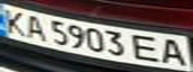0: (84, 25, 106, 54)
3: (103, 28, 130, 58)
5: (45, 18, 69, 47)
9: (63, 21, 87, 50)
A: (157, 36, 193, 68), (21, 12, 48, 42)
E: (130, 33, 166, 63)
K: (0, 7, 30, 35)
